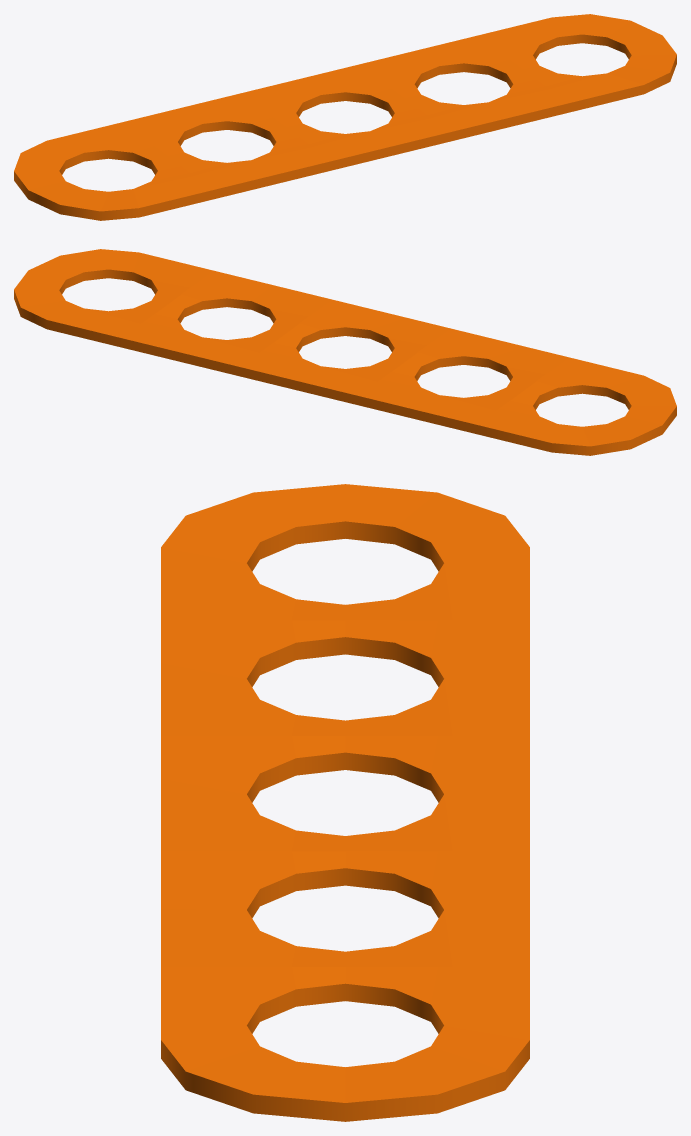
The model's file is FiveLongYellow.fbx.
3 renders of one model, top to bottom at view 1: azimuth 30°, elevation 25°; view 2: azimuth 150°, elevation 25°; view 3: azimuth 270°, elevation 25°, orthographic. The views are drawn at different scales.
Visible parts, largest first — view 1: Blue5; view 2: Blue5; view 3: Blue5.
Boxes of the visible parts, bbox=[...] form: Blue5: bbox=[14, 14, 676, 220]; Blue5: bbox=[14, 249, 676, 455]; Blue5: bbox=[161, 484, 529, 1121].
Size of the model in its own units: 13.69 by 0.1942 by 3.45.
